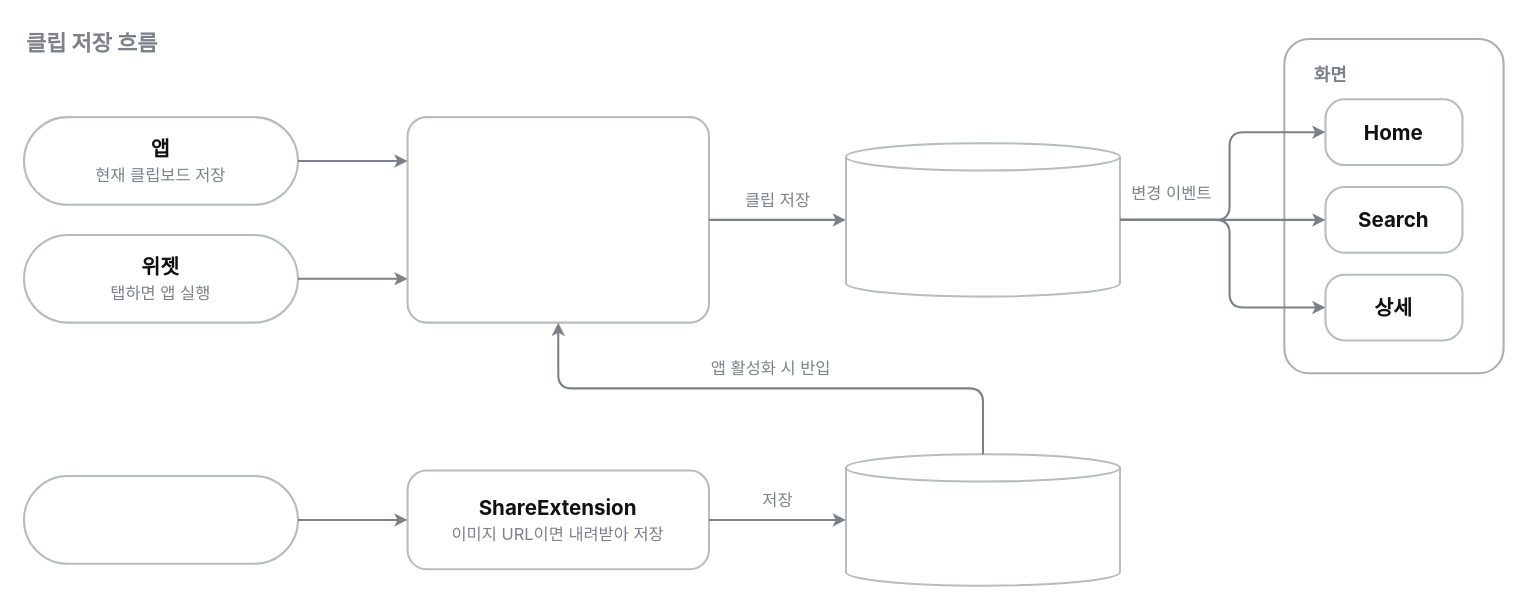
This 1529x610 diagram has some shape labels left out. Here are the shapes that lost their labels. From the top down, the centre of each, then its label:
[557,219]: Plyst 앱 시스템 클립보드 읽기 텍스트, 이미지 클립 생성
[982,219]: 클립 저장소 clips.sqlite 이미지 원본 파일
[160,519]: 공유 시트 텍스트, 웹 URL, 이미지
[982,519]: App Group 인박스 ShareInbox.sqlite ShareInboxImages
